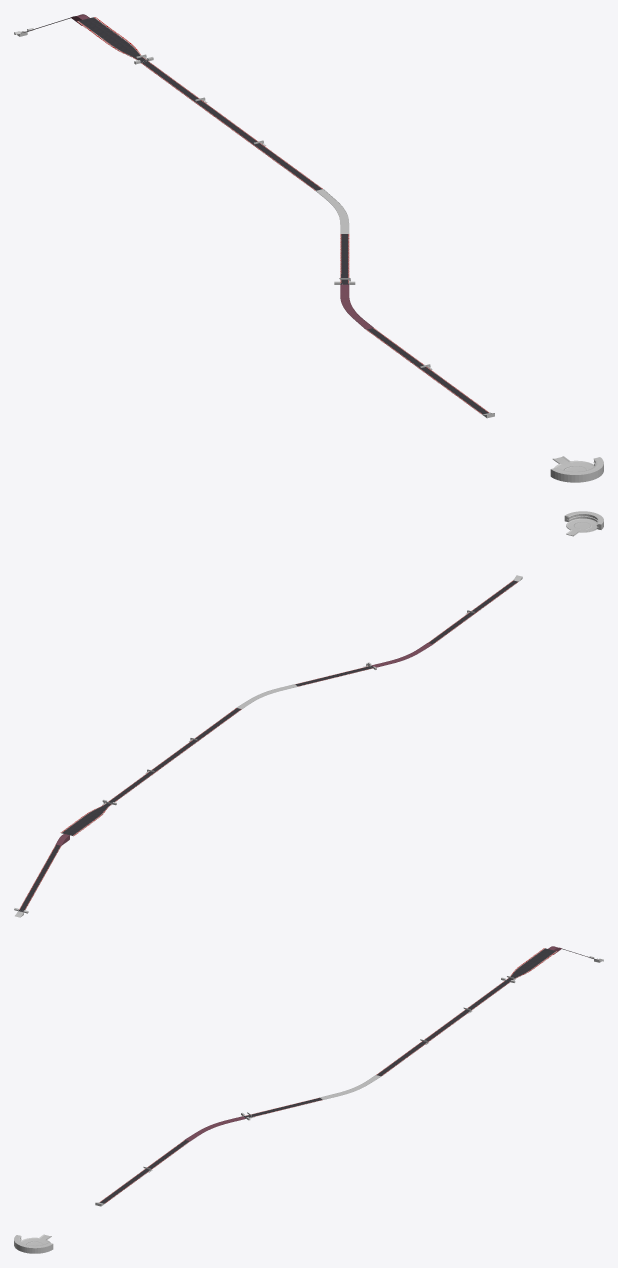
The model's file is level 4.fbx.
The picture shows the model from 3 angles, top to bottom: view 1: azimuth 30°, elevation 25°; view 2: azimuth 150°, elevation 25°; view 3: azimuth 330°, elevation 25°; orthographic projection. The views are drawn at different scales.
Parts seen in each view (by area): view 1: road; view 2: road; view 3: road.
Boxes of the visible parts, x1=… form: road: x1=22, y1=17, x2=489, y2=414; road: x1=19, y1=580, x2=518, y2=910; road: x1=99, y1=948, x2=597, y2=1203.
Bounding box in the file's own units: 30166 × 16446 × 253936.
